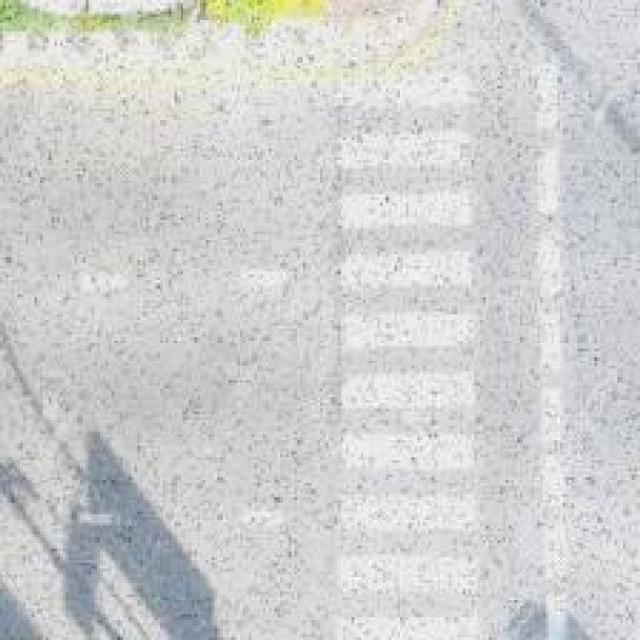walk-crossing: (317, 57, 512, 637)
